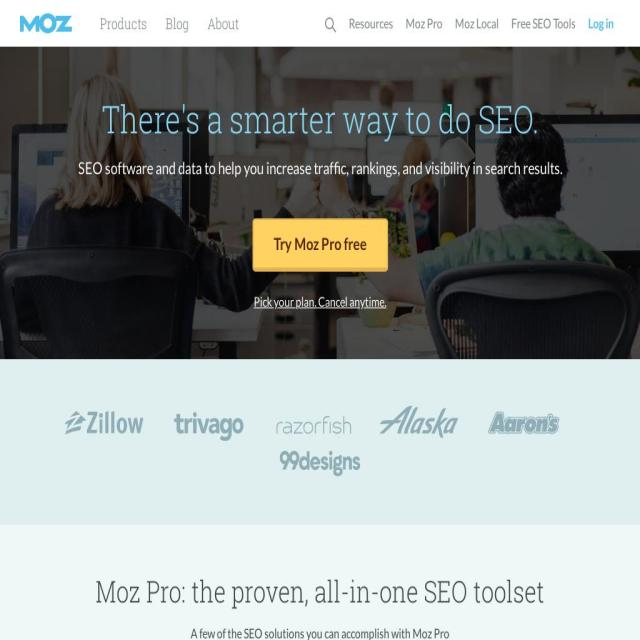button: (252, 218, 388, 272), (505, 0, 582, 47), (91, 0, 156, 47), (342, 0, 400, 47), (449, 0, 505, 47), (198, 0, 248, 47), (399, 0, 449, 47), (156, 0, 198, 47), (582, 0, 620, 47), (318, 0, 342, 47)
heading: (20, 94, 620, 144), (20, 571, 620, 610), (20, 157, 620, 178)
image: (58, 406, 150, 442), (163, 406, 255, 442), (268, 406, 360, 442), (373, 406, 465, 442), (478, 406, 570, 442), (274, 442, 366, 478), (20, 14, 72, 34), (325, 16, 336, 32)
link: (254, 293, 386, 309)
text: (20, 622, 620, 640), (349, 15, 393, 31)
